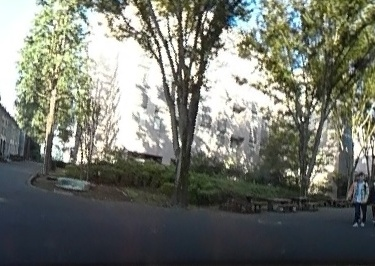person: (352, 169, 368, 225), (369, 177, 375, 218)
